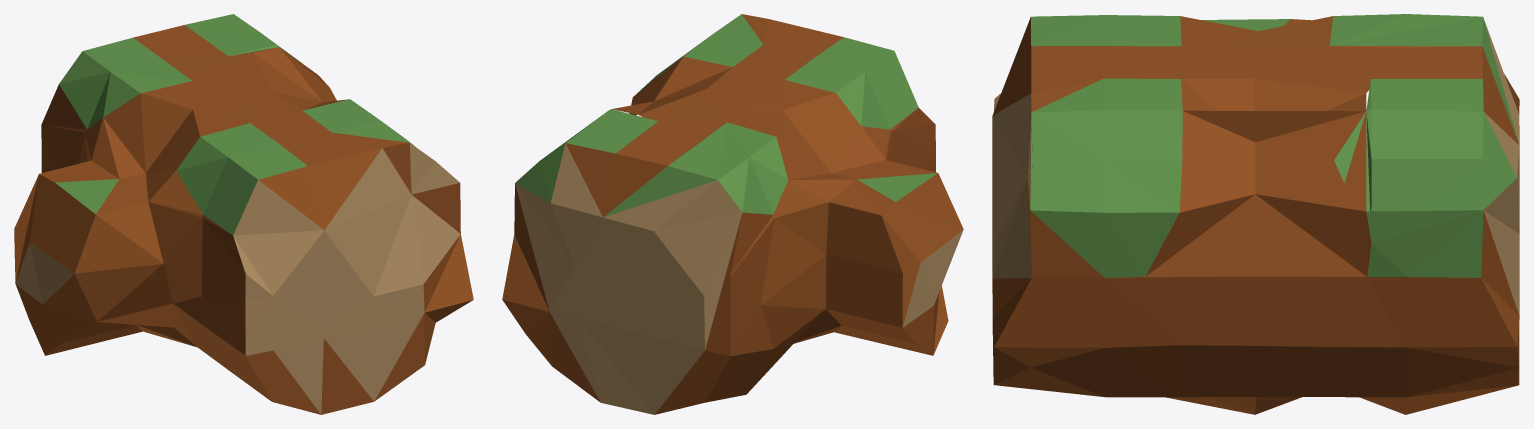
The model's file is fallen-log.glb.
The picture shows the model from 3 angles, left to right: view 1: azimuth 30°, elevation 25°; view 2: azimuth 150°, elevation 25°; view 3: azimuth 270°, elevation 25°; orthographic projection. The views are drawn at different scales.
Bounding box in the file's own units: 0.5912 × 0.4087 × 0.6335.
